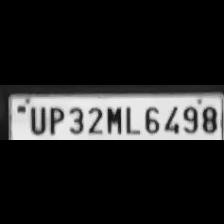2: (85, 102, 103, 134)
3: (65, 102, 84, 134)
4: (162, 102, 180, 134)
6: (140, 102, 160, 134)
8: (200, 102, 218, 134)
9: (180, 102, 198, 134)
L: (123, 102, 139, 134)
M: (104, 102, 124, 134)
P: (46, 103, 64, 135)
U: (26, 102, 44, 134)
